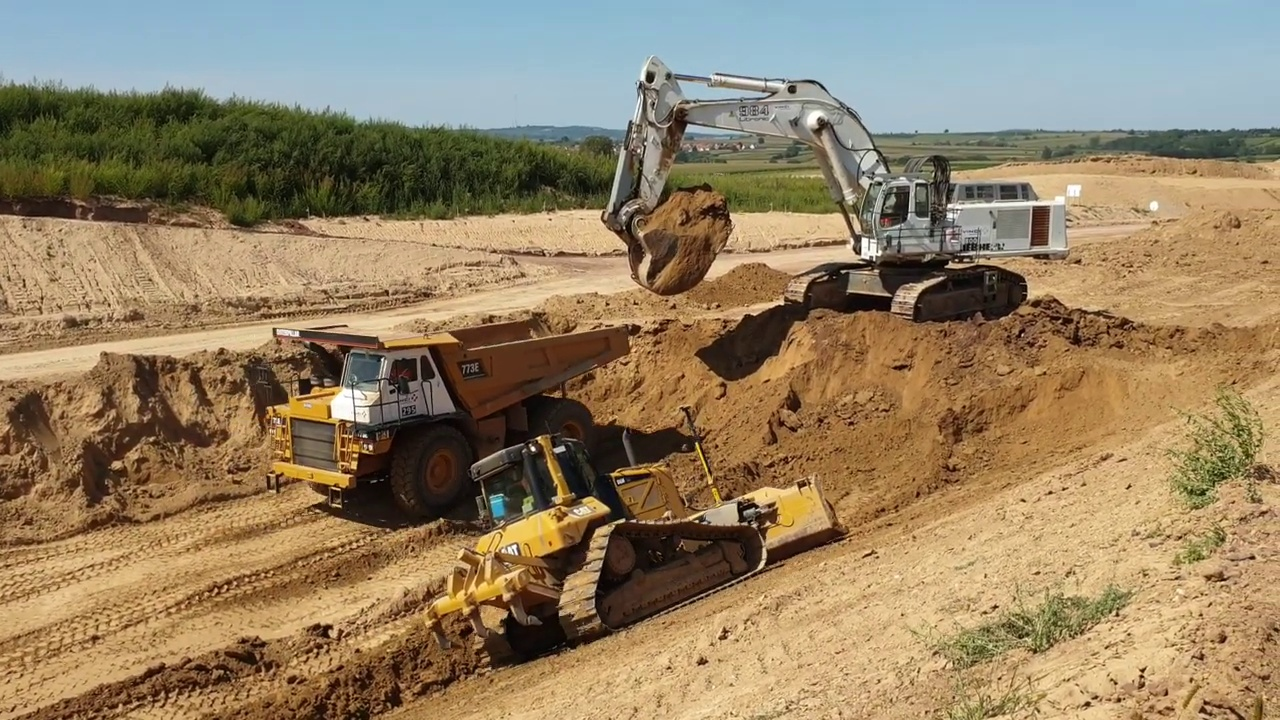bulldozer: (422, 403, 856, 672)
excavator: (599, 51, 1074, 330)
truck: (259, 313, 636, 521)
